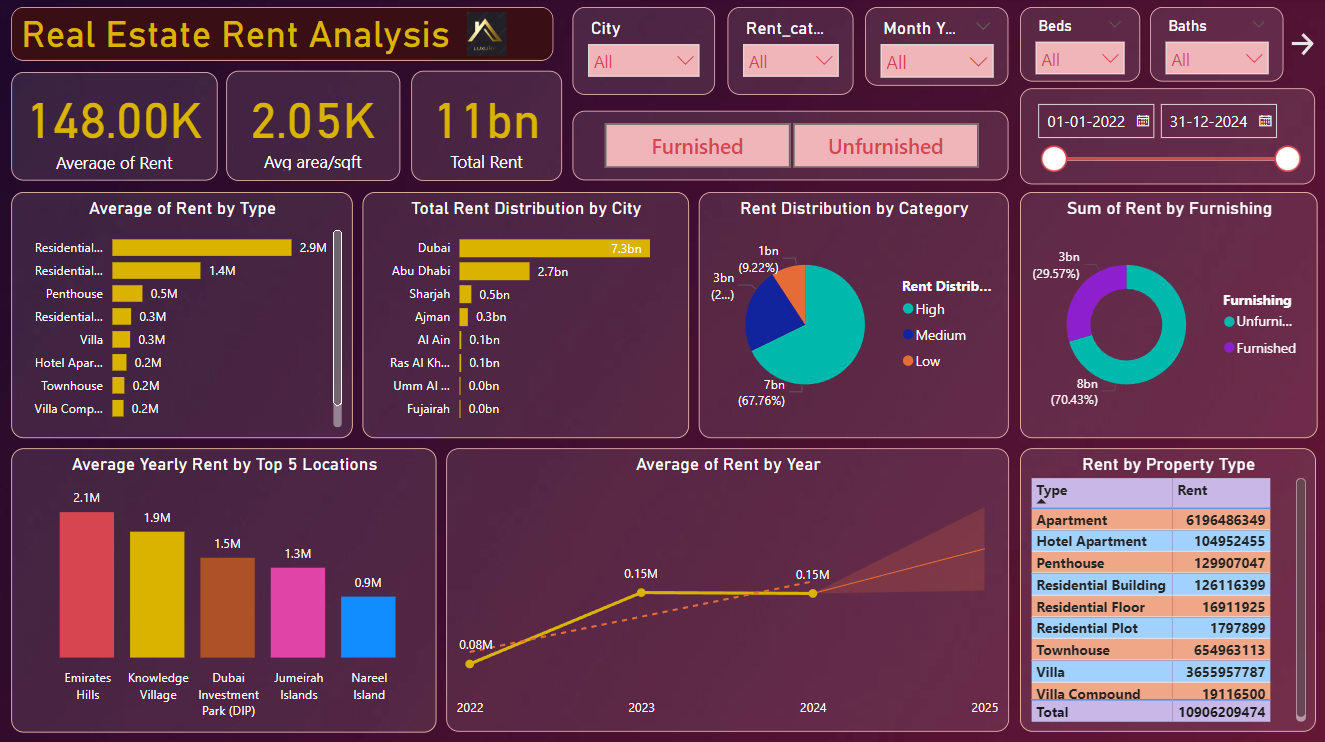

What the dashboard file says about the page in this screenshot:
{"tool":"powerbi","page":{"name":"Dashboard 1","canvas":[1280,720],"ordinal":0},"visuals":[{"type":"card","fields":{"Values":["Avg(dubai_properties.Rent)"]},"box":[10.9,72.4,199.1,105],"z":0},{"type":"card","fields":{"Values":["Avg(dubai_properties.Area_in_sqft)"]},"box":[218.4,71.2,167.7,106.2],"z":1000},{"type":"card","fields":{"Values":["Sum(dubai_properties.Rent)"]},"box":[396.9,71.2,146,106.2],"z":2000},{"type":"textbox","title":"Real Estate Rent Analysis","box":[10.9,9.7,523.6,51.9],"z":3000},{"type":"slicer","fields":{"Values":["dubai_properties.Furnishing"]},"box":[552.5,109.8,421,67.6],"z":4000},{"type":"slicer","fields":{"Values":["dubai_properties.Rent_category"]},"box":[702.1,9.7,121.9,84.5],"z":5000},{"type":"slicer","fields":{"Values":["dubai_properties.City"]},"box":[552.5,9.7,137.5,84.5],"z":6000},{"type":"slicer","fields":{"Values":["Calendar table.Date"]},"box":[984.5,88.1,284.7,92.9],"z":7000},{"type":"slicer","fields":{"Values":["Calendar table.Month","Calendar table.Year"]},"box":[834.9,9.7,138.7,76],"z":8000},{"type":"slicer","fields":{"Values":["dubai_properties.Beds"]},"box":[984.5,9.7,115.8,72.4],"z":9000},{"type":"slicer","fields":{"Values":["dubai_properties.Baths"]},"box":[1109.9,9.7,129.1,72.4],"z":10000},{"type":"barChart","fields":{"Category":["dubai_properties.Type"],"Y":["Avg(dubai_properties.Rent)"]},"box":[10.9,188.2,329.4,237.7],"z":11000},{"type":"barChart","title":"Total Rent Distribution by City","fields":{"Y":["Sum(dubai_properties.Rent)"],"Category":["dubai_properties.City"]},"box":[349.9,188.2,314.9,237.7],"z":12000},{"type":"pieChart","title":"Rent Distribution by Category","fields":{"Y":["Sum(dubai_properties.Rent)"],"Category":["dubai_properties.Rent_category"]},"box":[674.4,188.2,299.2,237.7],"z":13000},{"type":"donutChart","fields":{"Y":["Sum(dubai_properties.Rent)"],"Category":["dubai_properties.Furnishing"]},"box":[984.5,188.2,287.1,237.7],"z":14000},{"type":"columnChart","title":"Average Yearly Rent by Top 5 Locations ","fields":{"Category":["dubai_properties.Location"],"Y":["Avg(dubai_properties.Rent)"]},"box":[11,435,410.3,274.4],"z":15000},{"type":"lineChart","fields":{"Category":["Calendar table.Month","Calendar table.Quarter","Calendar table.Year"],"Y":["Avg(dubai_properties.Rent)"]},"box":[430.7,435.5,542.9,273.9],"z":16000},{"type":"tableEx","title":"Rent by Property Type","fields":{"Values":["dubai_properties.Type","Sum(dubai_properties.Rent)"]},"box":[984.5,435.5,285.9,273.9],"z":17000},{"type":"image","box":[396.9,9.7,146,51.9],"z":18000},{"type":"actionButton","box":[1241.4,21.7,30.2,48.3],"z":19000}]}

Visuals, with their boxes in screenshot pixels (x1, y1, x2, y2), scaled from the page's 1280x720 canvas onto the 1325x742 screenshot:
card - Avg(dubai_properties.Rent): [x1=11, y1=75, x2=217, y2=183]
card - Avg(dubai_properties.Area_in_sqft): [x1=226, y1=73, x2=400, y2=183]
card - Sum(dubai_properties.Rent): [x1=411, y1=73, x2=562, y2=183]
"Real Estate Rent Analysis" textbox: [x1=11, y1=10, x2=553, y2=63]
slicer - dubai_properties.Furnishing: [x1=572, y1=113, x2=1008, y2=183]
slicer - dubai_properties.Rent_category: [x1=727, y1=10, x2=853, y2=97]
slicer - dubai_properties.City: [x1=572, y1=10, x2=714, y2=97]
slicer - Calendar table.Date: [x1=1019, y1=91, x2=1314, y2=187]
slicer - Calendar table.Month x Calendar table.Year: [x1=864, y1=10, x2=1008, y2=88]
slicer - dubai_properties.Beds: [x1=1019, y1=10, x2=1139, y2=85]
slicer - dubai_properties.Baths: [x1=1149, y1=10, x2=1283, y2=85]
barChart - dubai_properties.Type x Avg(dubai_properties.Rent): [x1=11, y1=194, x2=352, y2=439]
"Total Rent Distribution by City" barChart: [x1=362, y1=194, x2=688, y2=439]
"Rent Distribution by Category" pieChart: [x1=698, y1=194, x2=1008, y2=439]
donutChart - Sum(dubai_properties.Rent) x dubai_properties.Furnishing: [x1=1019, y1=194, x2=1316, y2=439]
"Average Yearly Rent by Top 5 Locations " columnChart: [x1=11, y1=448, x2=436, y2=731]
lineChart - Calendar table.Month x Calendar table.Quarter: [x1=446, y1=449, x2=1008, y2=731]
"Rent by Property Type" tableEx: [x1=1019, y1=449, x2=1315, y2=731]
image: [x1=411, y1=10, x2=562, y2=63]
actionButton: [x1=1285, y1=22, x2=1316, y2=72]
